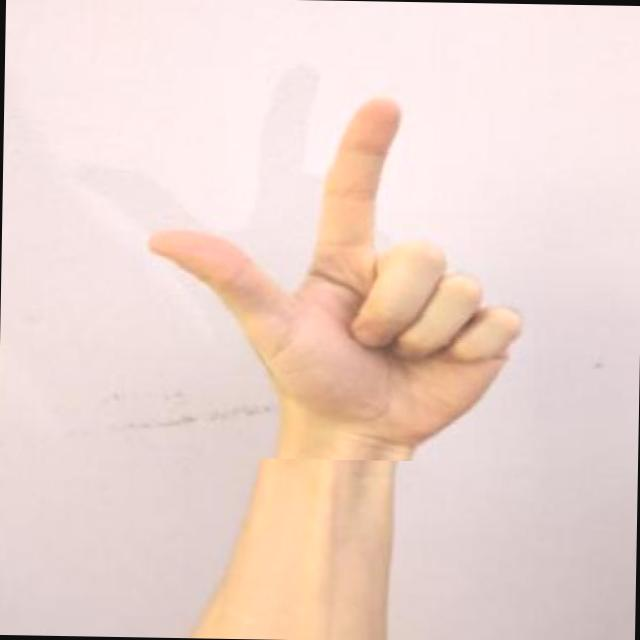L: (119, 79, 538, 462)
